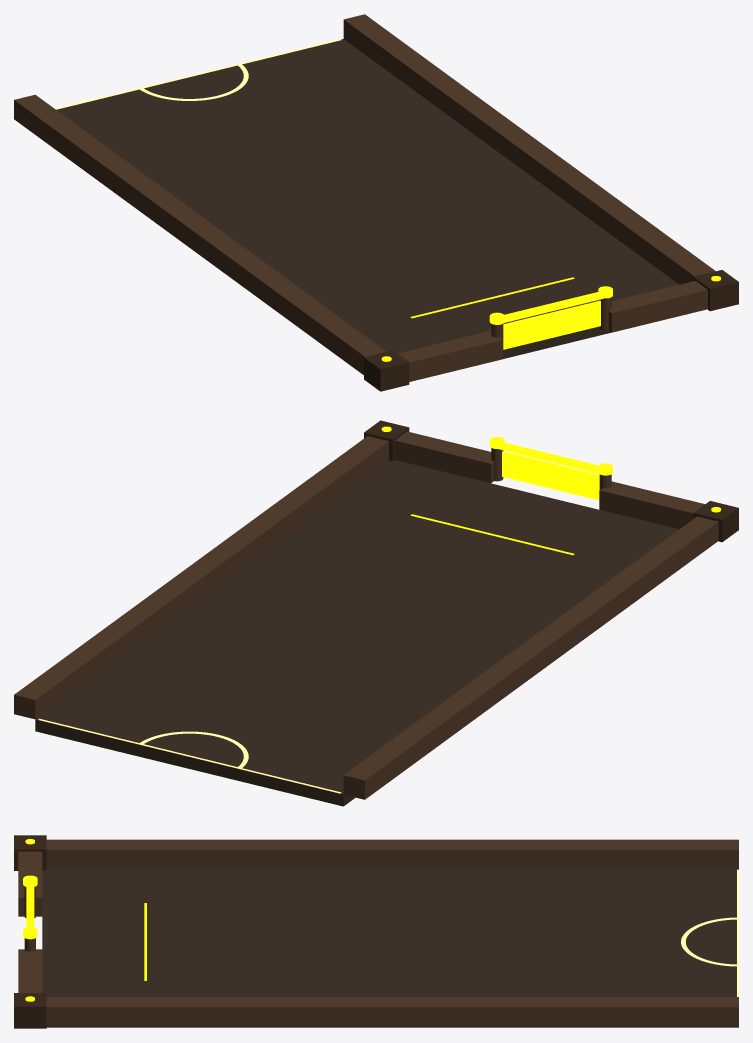
Rendered from mesa_wasteland_apocalypse_half_p2.glb.
3 renders of one model, top to bottom at view 1: azimuth 30°, elevation 25°; view 2: azimuth 150°, elevation 25°; view 3: azimuth 270°, elevation 25°, orthographic. The views are drawn at different scales.
Visible parts, largest first — view 1: WastelandHalfP2_Surface, WastelandHalfP2_RailL, WastelandHalfP2_RailR, Cube.004, Cube.002, Cube.009, Cube.006, Cube.007, Cube.008, WastelandHalfP2_TopEdgeLaser; view 2: WastelandHalfP2_Surface, WastelandHalfP2_RailL, WastelandHalfP2_RailR, Cube.004, Cube.002, Cube.009, Cube.006, Cube.008, Cube.007, WastelandHalfP2_TopEdgeLaser; view 3: WastelandHalfP2_Surface, WastelandHalfP2_RailL, WastelandHalfP2_RailR, Cube.002, Cube.007, Cube.004, Cube.006, WastelandHalfP2_CenterArcOuter, Cube.008.
Part boxes in pixels (box(x1,y1,x2,y2)): WastelandHalfP2_Surface: box(56, 39, 678, 358); WastelandHalfP2_RailL: box(14, 94, 385, 374); WastelandHalfP2_RailR: box(343, 14, 715, 284); Cube.004: box(608, 281, 707, 332); Cube.002: box(397, 331, 503, 381); Cube.009: box(503, 300, 600, 349); Cube.006: box(364, 350, 409, 391); Cube.007: box(693, 270, 738, 311); Cube.008: box(504, 292, 603, 322); WastelandHalfP2_TopEdgeLaser: box(55, 39, 341, 109); WastelandHalfP2_Surface: box(35, 460, 678, 806); WastelandHalfP2_RailL: box(343, 516, 718, 799); WastelandHalfP2_RailR: box(14, 436, 388, 719); Cube.004: box(395, 431, 494, 483); Cube.002: box(599, 481, 704, 529); Cube.009: box(502, 451, 599, 500); Cube.006: box(693, 501, 738, 542); Cube.008: box(499, 442, 598, 473); Cube.007: box(364, 420, 409, 461); WastelandHalfP2_TopEdgeLaser: box(38, 718, 341, 793); WastelandHalfP2_Surface: box(42, 869, 738, 1027); WastelandHalfP2_RailL: box(46, 839, 738, 868); WastelandHalfP2_RailR: box(46, 997, 738, 1026); Cube.002: box(18, 851, 42, 916); Cube.007: box(14, 993, 46, 1028); Cube.004: box(18, 949, 42, 992); Cube.006: box(14, 835, 46, 870); WastelandHalfP2_CenterArcOuter: box(681, 917, 736, 966); Cube.008: box(26, 884, 34, 927).
Size of the model in its own units: 1.26 by 0.17 by 2.25.
